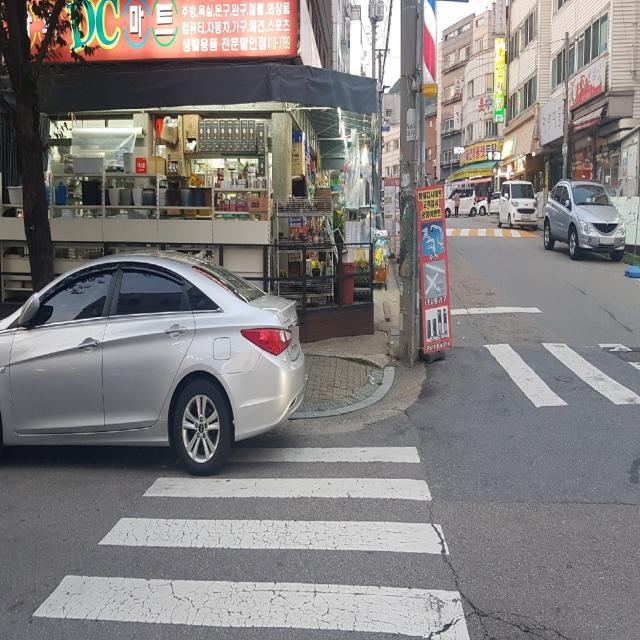횡단보도: (30, 442, 475, 639), (474, 323, 639, 428)
